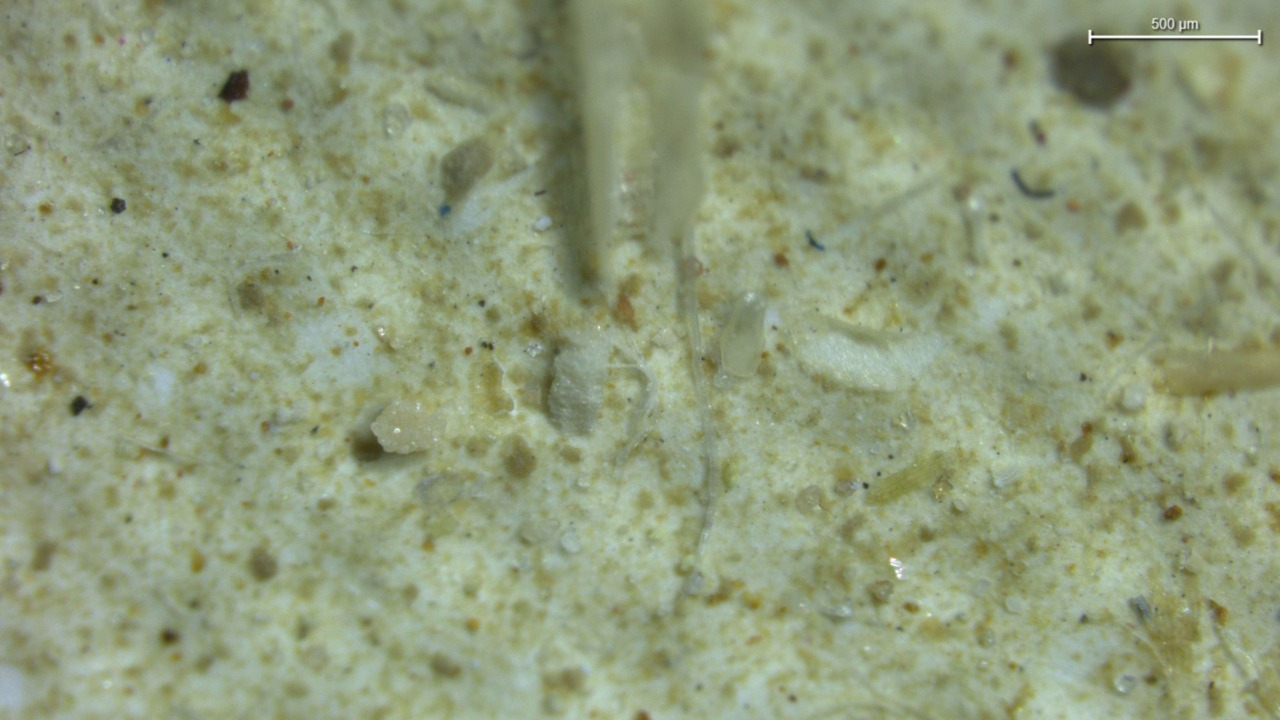microplastic_fragment: (547, 329, 612, 435), (717, 292, 765, 377), (371, 399, 445, 454), (1117, 380, 1149, 411)
